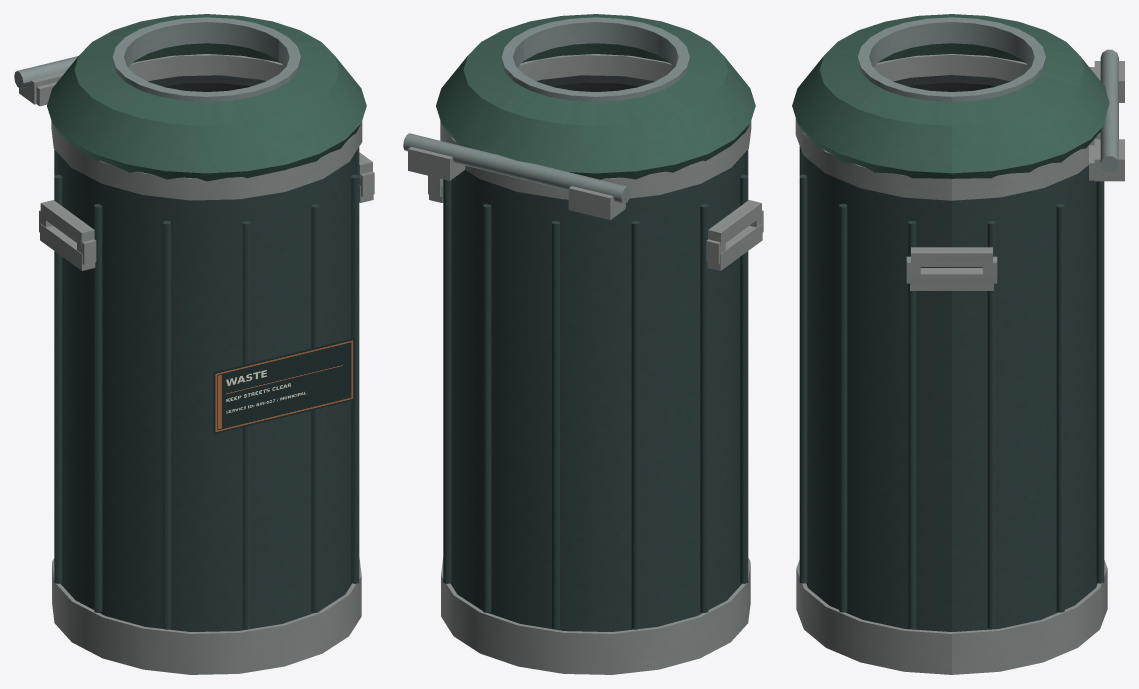
File: PZ_TrashCan.glb
3 views of the same model, side by side, from view 1: azimuth 30°, elevation 25°; view 2: azimuth 150°, elevation 25°; view 3: azimuth 270°, elevation 25° (orthographic).
Parts seen in each view (by area): view 1: RENDER_Bin_Body_FIXED_Body_HollowOpenSteelCylinder_SlatePowd, RENDER_Bin_Lid_HINGE_X_Lid_OverhangSlopedCover_MossPowdercoa, RENDER_Bin_Body_FIXED_Base_ReinforcedSkirt_GalvanizedSteel, RENDER_Bin_Body_FIXED_Top_ReinforcedLip_GalvanizedSteel, RENDER_Bin_Body_FIXED_WasteID_Decal_RecycleBadge, RENDER_Bin_Lid_HINGE_X_DepositChute_InnerRing_StainlessSteel, RENDER_Bin_Body_FIXED_Body_VerticalStampedRibs_06_SlatePowde, RENDER_Bin_Body_FIXED_Body_VerticalStampedRibs_10_SlatePowde, RENDER_Bin_Body_FIXED_Body_VerticalStampedRibs_07_SlatePowde, RENDER_Bin_Body_FIXED_Body_VerticalStampedRibs_05_SlatePowde, RENDER_Bin_Body_FIXED_Body_VerticalStampedRibs_08_SlatePowde, RENDER_Bin_Body_FIXED_Body_VerticalStampedRibs_09_SlatePowde (+4 smaller); view 2: RENDER_Bin_Body_FIXED_Body_HollowOpenSteelCylinder_SlatePowd, RENDER_Bin_Lid_HINGE_X_Lid_OverhangSlopedCover_MossPowdercoa, RENDER_Bin_Body_FIXED_Base_ReinforcedSkirt_GalvanizedSteel, RENDER_Bin_Body_FIXED_Top_ReinforcedLip_GalvanizedSteel, RENDER_Bin_Lid_HINGE_X_DepositChute_InnerRing_StainlessSteel, RENDER_Bin_Lid_HINGE_X_LidHinge_Axle_StainlessSteel, RENDER_Bin_Body_FIXED_Body_VerticalStampedRibs_04_SlatePowde, RENDER_Bin_Body_FIXED_Body_VerticalStampedRibs_02_SlatePowde, RENDER_Bin_Body_FIXED_Body_VerticalStampedRibs_01_SlatePowde, RENDER_Bin_Body_FIXED_Body_VerticalStampedRibs_05_SlatePowde, RENDER_Bin_Body_FIXED_Body_VerticalStampedRibs_03_SlatePowde, RENDER_Bin_Body_FIXED_Body_VerticalStampedRibs_06_SlatePowde (+4 smaller); view 3: RENDER_Bin_Body_FIXED_Body_HollowOpenSteelCylinder_SlatePowd, RENDER_Bin_Lid_HINGE_X_Lid_OverhangSlopedCover_MossPowdercoa, RENDER_Bin_Body_FIXED_Base_ReinforcedSkirt_GalvanizedSteel, RENDER_Bin_Body_FIXED_Top_ReinforcedLip_GalvanizedSteel, RENDER_Bin_Lid_HINGE_X_DepositChute_InnerRing_StainlessSteel, RENDER_Bin_Body_FIXED_Body_VerticalStampedRibs_09_SlatePowde, RENDER_Bin_Body_FIXED_Body_VerticalStampedRibs_01_SlatePowde, RENDER_Bin_Body_FIXED_Body_VerticalStampedRibs_10_SlatePowde, RENDER_Bin_Body_FIXED_Body_VerticalStampedRibs_02_SlatePowde, RENDER_Bin_Body_FIXED_Body_VerticalStampedRibs_11_SlatePowde, RENDER_Bin_Body_FIXED_Body_VerticalStampedRibs_00_SlatePowde, RENDER_Bin_Lid_HINGE_X_LidHinge_Axle_StainlessSteel (+4 smaller).
Boxes of the visible parts, x1,y1,x2,y2 form: RENDER_Bin_Body_FIXED_Body_HollowOpenSteelCylinder_SlatePowd: [56, 149, 357, 631]; RENDER_Bin_Lid_HINGE_X_Lid_OverhangSlopedCover_MossPowdercoa: [47, 14, 366, 181]; RENDER_Bin_Body_FIXED_Base_ReinforcedSkirt_GalvanizedSteel: [52, 557, 361, 674]; RENDER_Bin_Body_FIXED_Top_ReinforcedLip_GalvanizedSteel: [51, 54, 362, 200]; RENDER_Bin_Body_FIXED_WasteID_Decal_RecycleBadge: [213, 338, 355, 434]; RENDER_Bin_Lid_HINGE_X_DepositChute_InnerRing_StainlessSteel: [112, 17, 300, 101]; RENDER_Bin_Body_FIXED_Body_VerticalStampedRibs_06_SlatePowde: [94, 203, 102, 612]; RENDER_Bin_Body_FIXED_Body_VerticalStampedRibs_10_SlatePowde: [351, 174, 359, 583]; RENDER_Bin_Body_FIXED_Body_VerticalStampedRibs_07_SlatePowde: [163, 220, 170, 629]; RENDER_Bin_Body_FIXED_Body_VerticalStampedRibs_05_SlatePowde: [54, 174, 62, 583]; RENDER_Bin_Body_FIXED_Body_VerticalStampedRibs_08_SlatePowde: [242, 221, 250, 629]; RENDER_Bin_Body_FIXED_Body_VerticalStampedRibs_09_SlatePowde: [311, 204, 319, 612]; RENDER_Bin_Body_FIXED_Body_HollowOpenSteelCylinder_SlatePowd: [450, 151, 746, 631]; RENDER_Bin_Lid_HINGE_X_Lid_OverhangSlopedCover_MossPowdercoa: [436, 14, 755, 179]; RENDER_Bin_Body_FIXED_Base_ReinforcedSkirt_GalvanizedSteel: [441, 558, 750, 674]; RENDER_Bin_Body_FIXED_Top_ReinforcedLip_GalvanizedSteel: [440, 54, 751, 199]; RENDER_Bin_Lid_HINGE_X_DepositChute_InnerRing_StainlessSteel: [501, 17, 689, 101]; RENDER_Bin_Lid_HINGE_X_LidHinge_Axle_StainlessSteel: [403, 133, 630, 204]; RENDER_Bin_Body_FIXED_Body_VerticalStampedRibs_04_SlatePowde: [631, 220, 639, 629]; RENDER_Bin_Body_FIXED_Body_VerticalStampedRibs_02_SlatePowde: [483, 204, 491, 612]; RENDER_Bin_Body_FIXED_Body_VerticalStampedRibs_01_SlatePowde: [443, 179, 451, 583]; RENDER_Bin_Body_FIXED_Body_VerticalStampedRibs_05_SlatePowde: [700, 203, 708, 612]; RENDER_Bin_Body_FIXED_Body_VerticalStampedRibs_03_SlatePowde: [552, 221, 559, 629]; RENDER_Bin_Body_FIXED_Body_VerticalStampedRibs_06_SlatePowde: [740, 174, 748, 583]; RENDER_Bin_Body_FIXED_Body_HollowOpenSteelCylinder_SlatePowd: [800, 149, 1097, 631]; RENDER_Bin_Lid_HINGE_X_Lid_OverhangSlopedCover_MossPowdercoa: [792, 14, 1109, 178]; RENDER_Bin_Body_FIXED_Base_ReinforcedSkirt_GalvanizedSteel: [796, 560, 1107, 674]; RENDER_Bin_Body_FIXED_Top_ReinforcedLip_GalvanizedSteel: [795, 54, 1100, 200]; RENDER_Bin_Lid_HINGE_X_DepositChute_InnerRing_StainlessSteel: [858, 17, 1045, 101]; RENDER_Bin_Body_FIXED_Body_VerticalStampedRibs_09_SlatePowde: [799, 174, 807, 583]; RENDER_Bin_Body_FIXED_Body_VerticalStampedRibs_01_SlatePowde: [1056, 203, 1064, 612]; RENDER_Bin_Body_FIXED_Body_VerticalStampedRibs_10_SlatePowde: [839, 203, 847, 612]; RENDER_Bin_Body_FIXED_Body_VerticalStampedRibs_02_SlatePowde: [1096, 181, 1104, 583]; RENDER_Bin_Body_FIXED_Body_VerticalStampedRibs_11_SlatePowde: [908, 221, 916, 629]; RENDER_Bin_Body_FIXED_Body_VerticalStampedRibs_00_SlatePowde: [987, 221, 995, 629]; RENDER_Bin_Lid_HINGE_X_LidHinge_Axle_StainlessSteel: [1100, 49, 1118, 171].
Size of the model in its own units: 0.476 by 0.861 by 0.4705.
6 materials, 6 textured.
